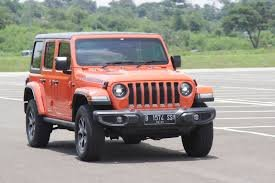mobil: (25, 25, 219, 163)
